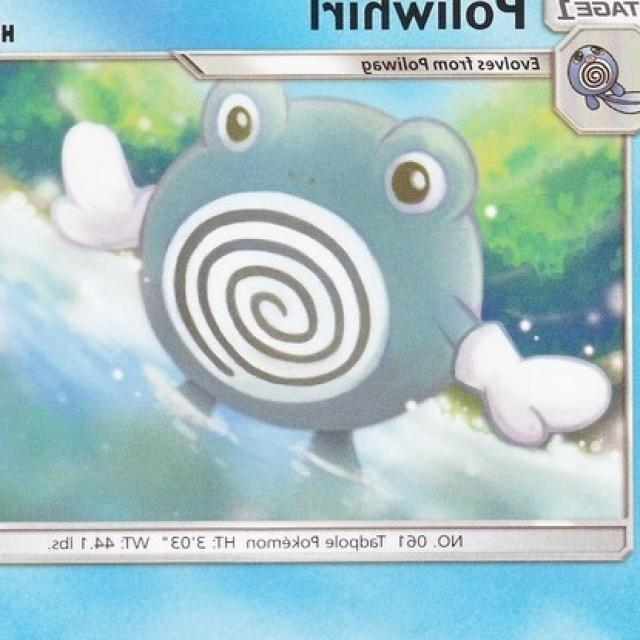Poliwhirl: (52, 103, 560, 394)
